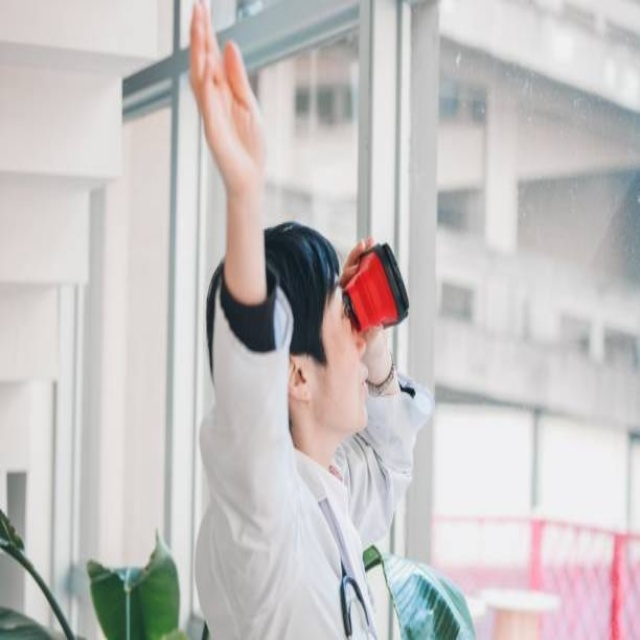Sin_guantes: (189, 5, 272, 199)
Sin_mascara: (339, 350, 373, 427)
